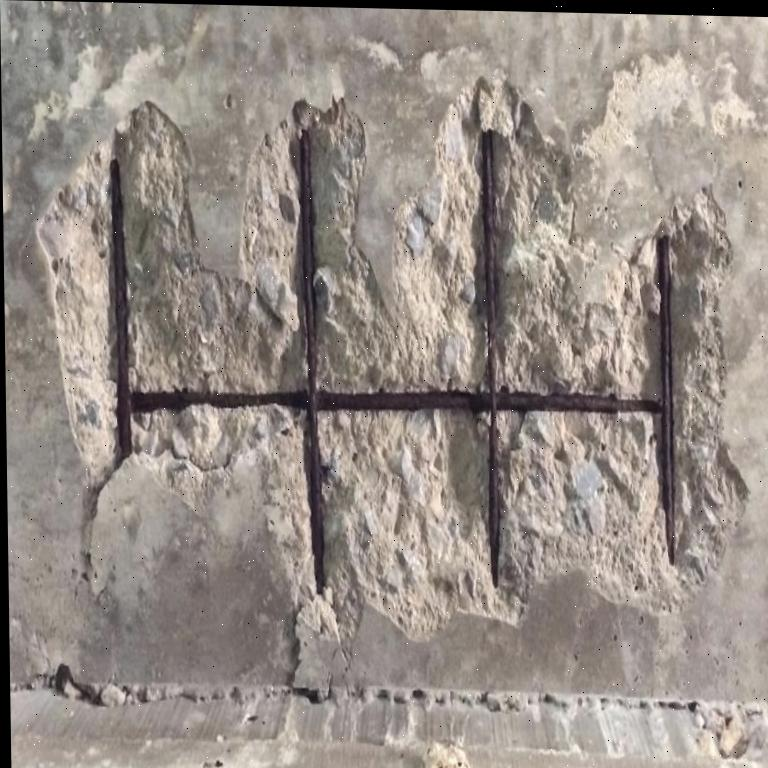exposed_rebar: (109, 128, 675, 591)
spalling: (51, 89, 764, 768)
